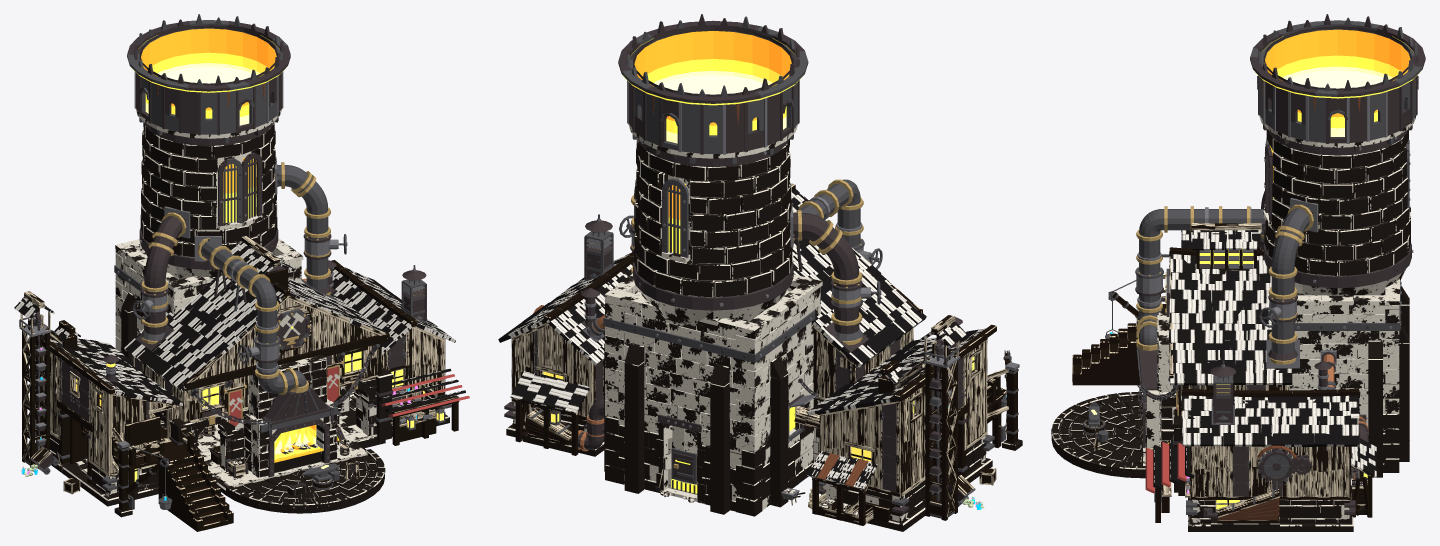
Rendered from LOBBY_03_FORGE_9df2fe.fbx.
3 views of the same model, side by side, from view 1: azimuth 30°, elevation 25°; view 2: azimuth 150°, elevation 25°; view 3: azimuth 270°, elevation 25° (orthographic). The views are drawn at different scales.
Visible parts, largest first — view 1: FORGE_Chimney_Tower__Metal_Dark, FORGE_Chimney_Tower__Metal_Burnt, FORGE_Hall__Roof_Forge, FORGE_Wing_L__Wood_Dark, FORGE_Chimney_Tower__Stone_Forge_Dark, FORGE_Chimney_Tower__Stone_Forge, FORGE_Hall__Stone_Forge_Dark, FORGE_Hall__Stone_Paving_B, FORGE_Chimney_Tower__Ember_Glow, FORGE_Chimney_Tower__Metal_Brass, FORGE_Hearth__Metal_Burnt, FORGE_Chimney_Tower__Stone_Forge_B (+47 smaller); view 2: FORGE_Chimney_Tower__Stone_Forge_Dark, FORGE_Chimney_Tower__Metal_Burnt, FORGE_Chimney_Tower__Metal_Dark, FORGE_Chimney_Tower__Stone_Forge, FORGE_Chimney_Tower__Stone_Forge_B, FORGE_Wing_L__Wood_Dark, FORGE_Chimney_Tower__Stone_Forge_C, FORGE_Hall__Roof_Forge, FORGE_Wing_R__Roof_Forge, FORGE_Chimney_Tower__Ember_Glow, FORGE_Wing_L__Roof_Forge, FORGE_Chimney_Tower__Stone_Light (+29 smaller); view 3: FORGE_Hall__Roof_Forge, FORGE_Chimney_Tower__Stone_Forge_Dark, FORGE_Chimney_Tower__Metal_Dark, FORGE_Chimney_Tower__Metal_Burnt, FORGE_Wing_R__Roof_Forge, FORGE_Chimney_Tower__Stone_Forge, FORGE_Chimney_Tower__Stone_Forge_B, FORGE_Wing_R__Wood_Dark, FORGE_Chimney_Tower__Ember_Glow, FORGE_Chimney_Tower__Stone_Forge_C, FORGE_Wing_R__Metal_Burnt, FORGE_Hall__Stone_Paving_B (+27 smaller).
Part boxes in pixels (bbox=[...]): FORGE_Chimney_Tower__Metal_Dark: bbox=[114, 14, 347, 393]; FORGE_Chimney_Tower__Metal_Burnt: bbox=[127, 19, 331, 363]; FORGE_Hall__Roof_Forge: bbox=[124, 241, 393, 391]; FORGE_Wing_L__Wood_Dark: bbox=[35, 341, 233, 531]; FORGE_Chimney_Tower__Stone_Forge_Dark: bbox=[115, 109, 301, 431]; FORGE_Chimney_Tower__Stone_Forge: bbox=[126, 127, 292, 401]; FORGE_Hall__Stone_Forge_Dark: bbox=[35, 378, 449, 513]; FORGE_Hall__Stone_Paving_B: bbox=[197, 412, 377, 502]; FORGE_Chimney_Tower__Ember_Glow: bbox=[141, 28, 276, 193]; FORGE_Chimney_Tower__Metal_Brass: bbox=[141, 162, 330, 395]; FORGE_Hearth__Metal_Burnt: bbox=[194, 352, 372, 495]; FORGE_Chimney_Tower__Stone_Forge_B: bbox=[137, 122, 276, 330]; FORGE_Chimney_Tower__Stone_Forge_Dark: bbox=[604, 123, 820, 516]; FORGE_Chimney_Tower__Metal_Burnt: bbox=[598, 14, 873, 493]; FORGE_Chimney_Tower__Metal_Dark: bbox=[583, 16, 882, 490]; FORGE_Chimney_Tower__Stone_Forge: bbox=[613, 145, 804, 478]; FORGE_Chimney_Tower__Stone_Forge_B: bbox=[609, 139, 804, 464]; FORGE_Wing_L__Wood_Dark: bbox=[791, 340, 1017, 525]; FORGE_Chimney_Tower__Stone_Forge_C: bbox=[609, 140, 800, 469]; FORGE_Hall__Roof_Forge: bbox=[791, 189, 926, 367]; FORGE_Wing_R__Roof_Forge: bbox=[498, 253, 633, 413]; FORGE_Chimney_Tower__Ember_Glow: bbox=[634, 31, 791, 219]; FORGE_Wing_L__Roof_Forge: bbox=[807, 328, 985, 489]; FORGE_Chimney_Tower__Stone_Light: bbox=[604, 274, 822, 500]; FORGE_Hall__Roof_Forge: bbox=[1169, 229, 1292, 385]; FORGE_Chimney_Tower__Stone_Forge_Dark: bbox=[1259, 115, 1416, 477]; FORGE_Chimney_Tower__Metal_Dark: bbox=[1135, 17, 1422, 389]; FORGE_Chimney_Tower__Metal_Burnt: bbox=[1135, 14, 1425, 372]; FORGE_Wing_R__Roof_Forge: bbox=[1181, 392, 1376, 477]; FORGE_Chimney_Tower__Stone_Forge: bbox=[1265, 130, 1407, 432]; FORGE_Chimney_Tower__Stone_Forge_B: bbox=[1265, 139, 1408, 388]; FORGE_Wing_R__Wood_Dark: bbox=[1155, 389, 1374, 522]; FORGE_Chimney_Tower__Ember_Glow: bbox=[1264, 29, 1410, 182]; FORGE_Chimney_Tower__Stone_Forge_C: bbox=[1271, 130, 1410, 434]; FORGE_Wing_R__Metal_Burnt: bbox=[1203, 361, 1368, 518]; FORGE_Hall__Stone_Paving_B: bbox=[1059, 396, 1145, 465].
Bounding box in the file's own units: 79.42 × 71.52 × 61.43.
25 materials, 4 textured.
